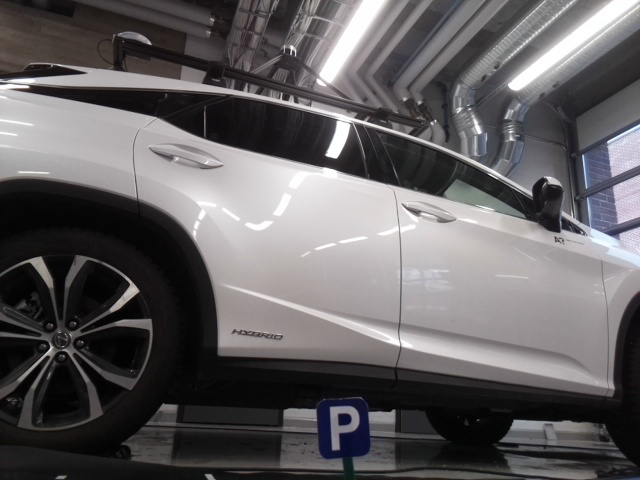Parking: (313, 398, 372, 458)
